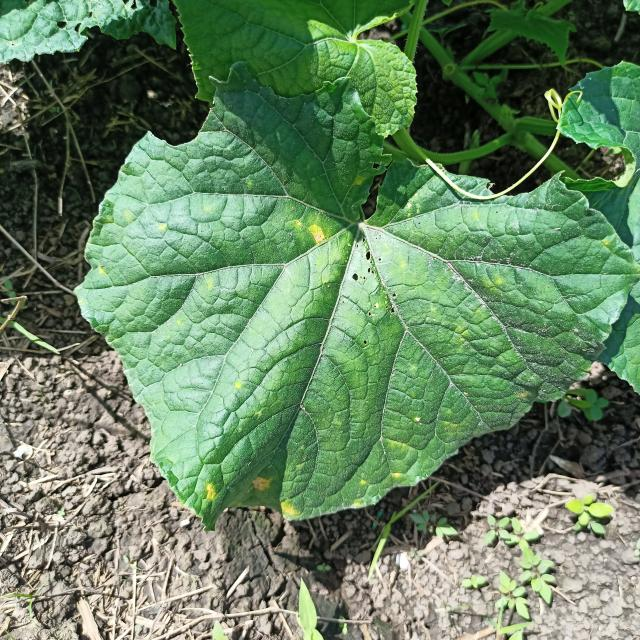disease_cucumber: (298, 219, 326, 244), (252, 474, 272, 493), (203, 483, 220, 503), (282, 503, 294, 517), (156, 222, 168, 232)
